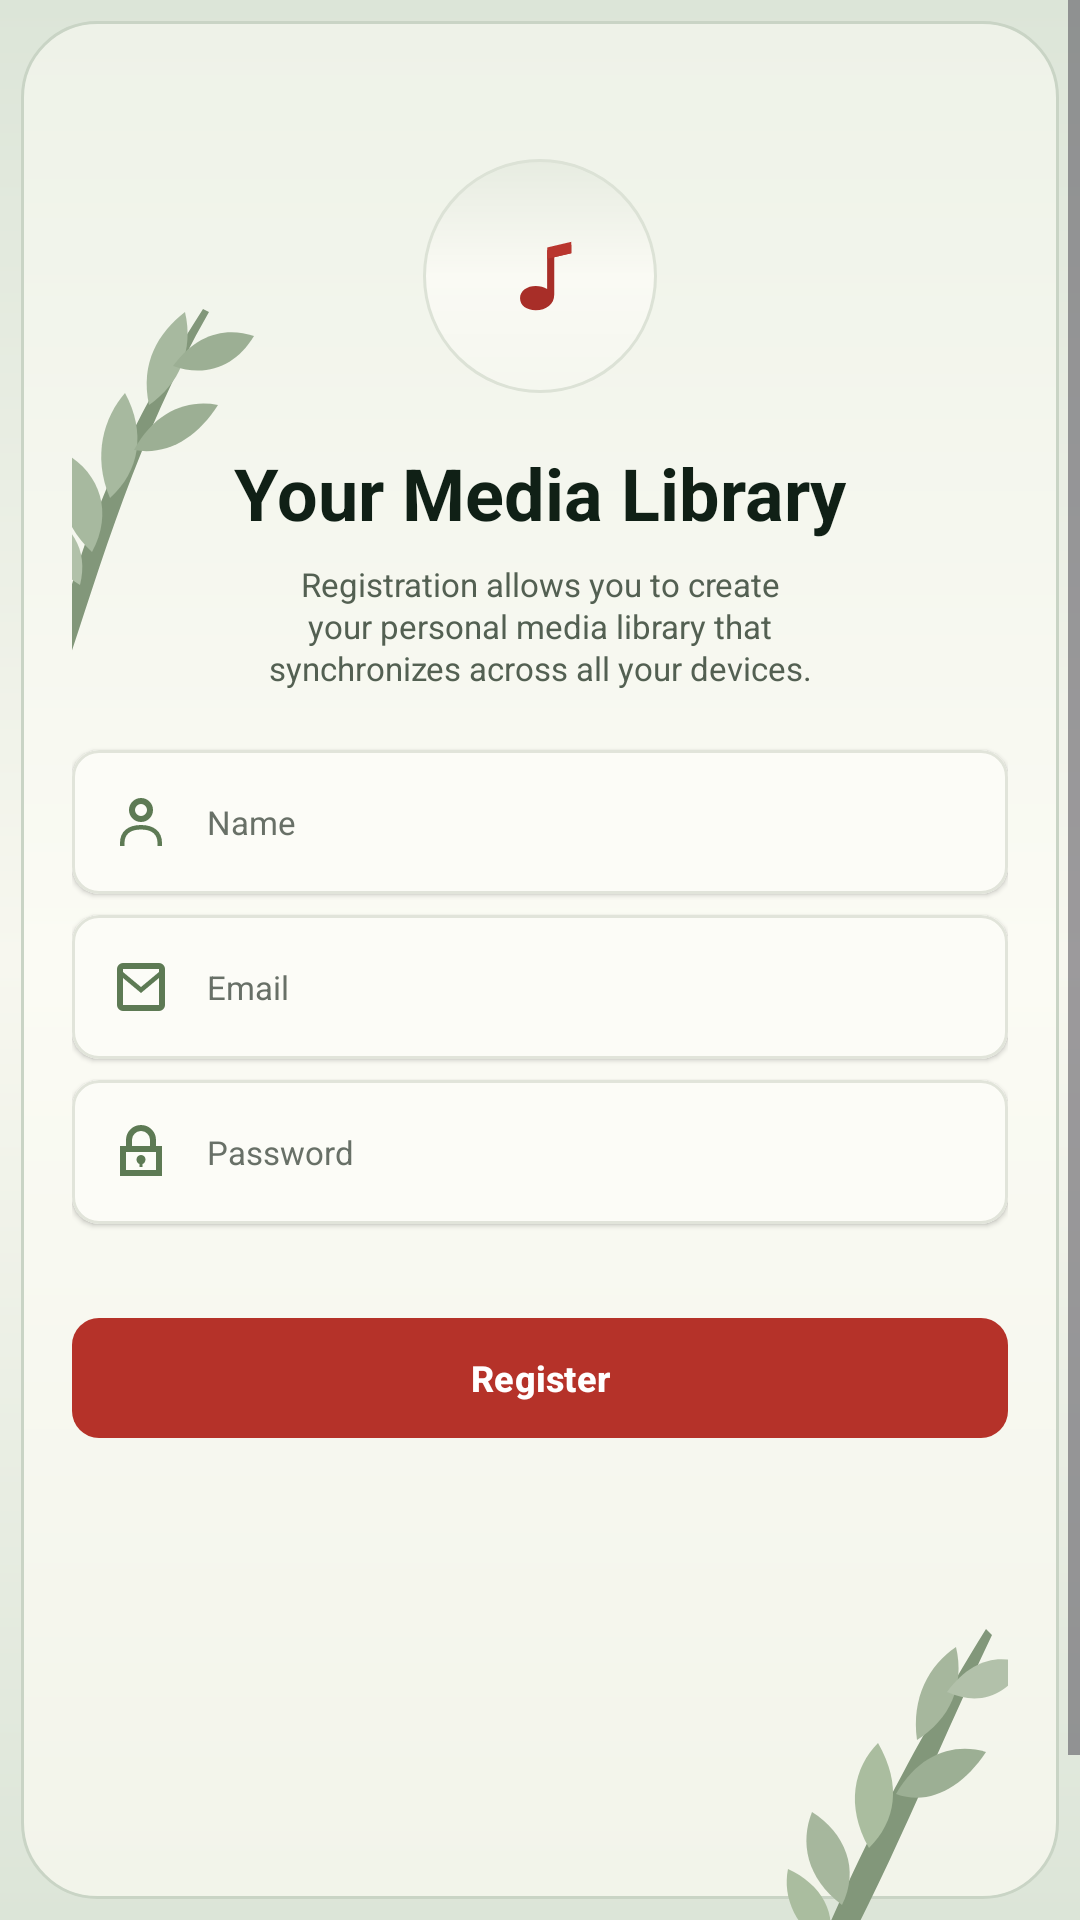

Named icons in this screenshot (1080 × 1920) and their bounding boxes, [left=x1, top=y1, right=x2, bottom=y2]:
music note: [left=520, top=242, right=572, bottom=311]
